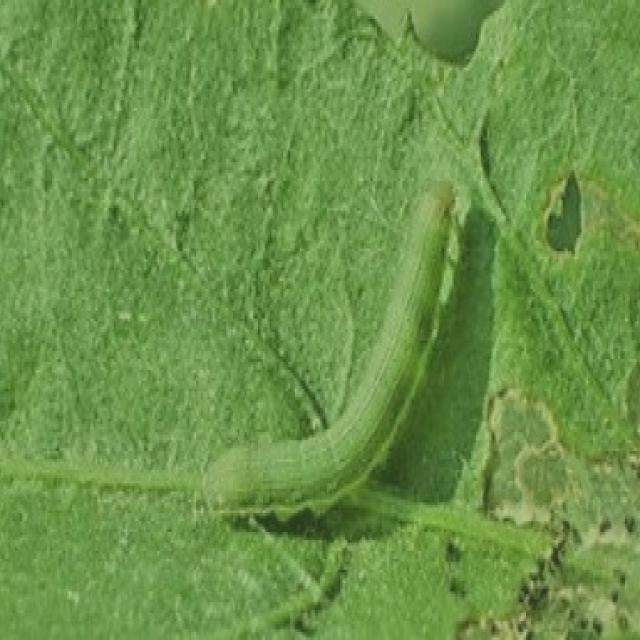armyworm: (200, 176, 458, 526)
